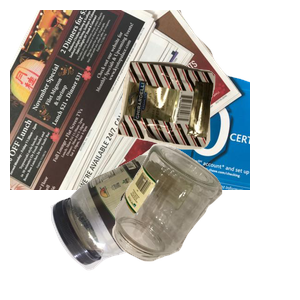glass: (110, 141, 300, 300)
paper: (10, 10, 250, 190)
plastic: (48, 152, 228, 300)
trash: (115, 58, 300, 200)
